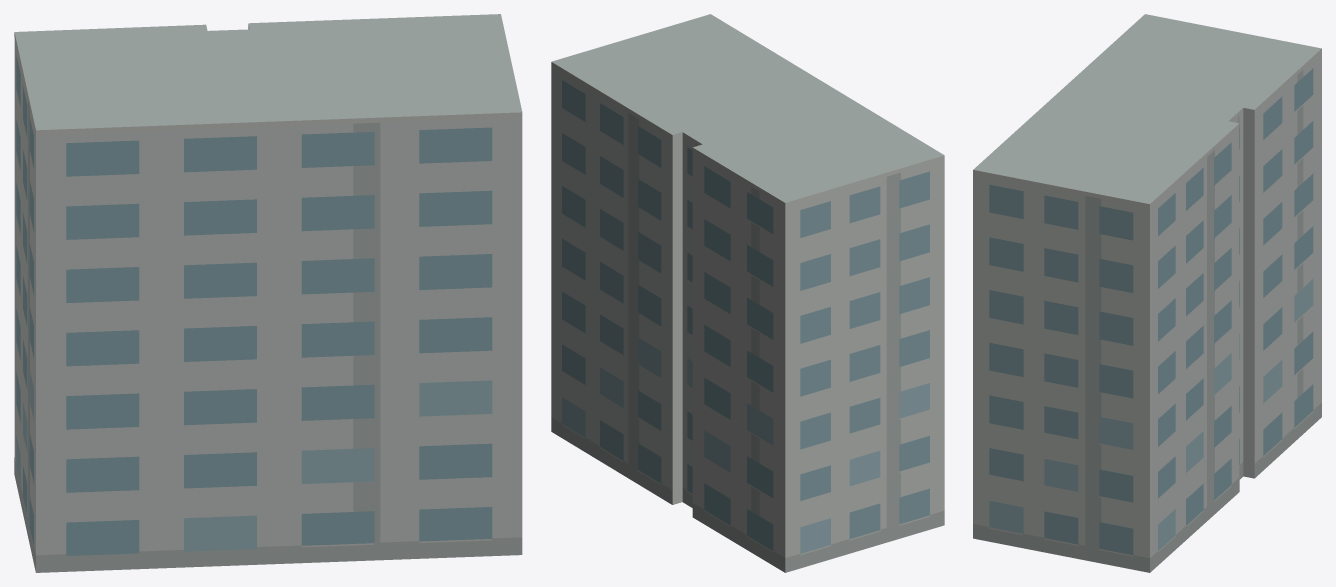
Rendered from survey-upis-32923502.glb.
The picture shows the model from 3 angles, left to right: view 1: azimuth 30°, elevation 25°; view 2: azimuth 150°, elevation 25°; view 3: azimuth 270°, elevation 25°; orthographic projection. The views are drawn at different scales.
Visible parts, largest first — view 1: survey-upis-32923502.tmp; view 2: survey-upis-32923502.tmp; view 3: survey-upis-32923502.tmp.
Part boxes in pixels (x1,y1,x2,y2): survey-upis-32923502.tmp: (14,14,522,572); survey-upis-32923502.tmp: (551,14,944,572); survey-upis-32923502.tmp: (973,14,1321,572).
Bounding box in the file's own units: 23.9 × 21.6 × 18.53.
